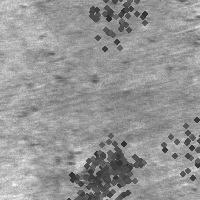rolled-in_scale: (60, 130, 150, 200), (6, 50, 98, 117), (65, 0, 159, 58), (10, 130, 97, 192), (150, 102, 200, 192), (82, 129, 148, 195), (54, 161, 122, 200)
